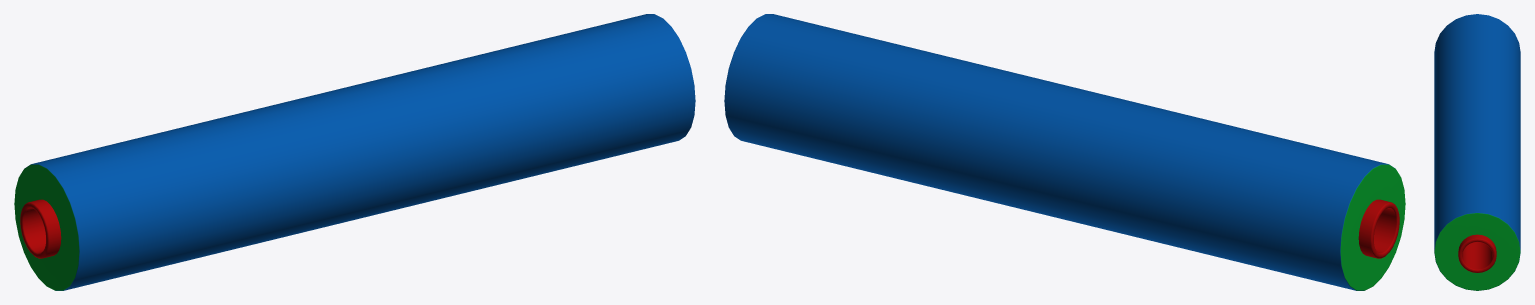
The model's file is SM_roll_4.fbx.
3 renders of one model, left to right at view 1: azimuth 30°, elevation 25°; view 2: azimuth 150°, elevation 25°; view 3: azimuth 270°, elevation 25°, orthographic. The views are drawn at different scales.
Parts seen in each view (by area): view 1: SM_roll_4; view 2: SM_roll_4; view 3: SM_roll_4.
Boxes of the visible parts, box(x1,y1,x2,y2) form: SM_roll_4: box(14, 14, 695, 290); SM_roll_4: box(724, 14, 1405, 290); SM_roll_4: box(1434, 14, 1520, 290).
Size of the model in its own units: 1.21 by 0.2134 by 0.2134.
